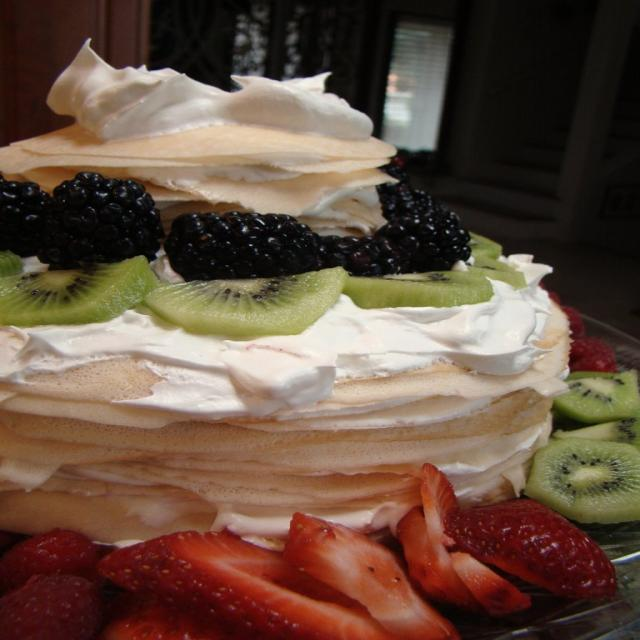Strawberry: (99, 528, 399, 640), (272, 512, 456, 640), (420, 492, 616, 602), (416, 460, 466, 604), (0, 572, 103, 639), (390, 506, 460, 604), (443, 543, 531, 619), (0, 528, 100, 582), (102, 601, 228, 640), (568, 335, 620, 373), (563, 304, 587, 336)
